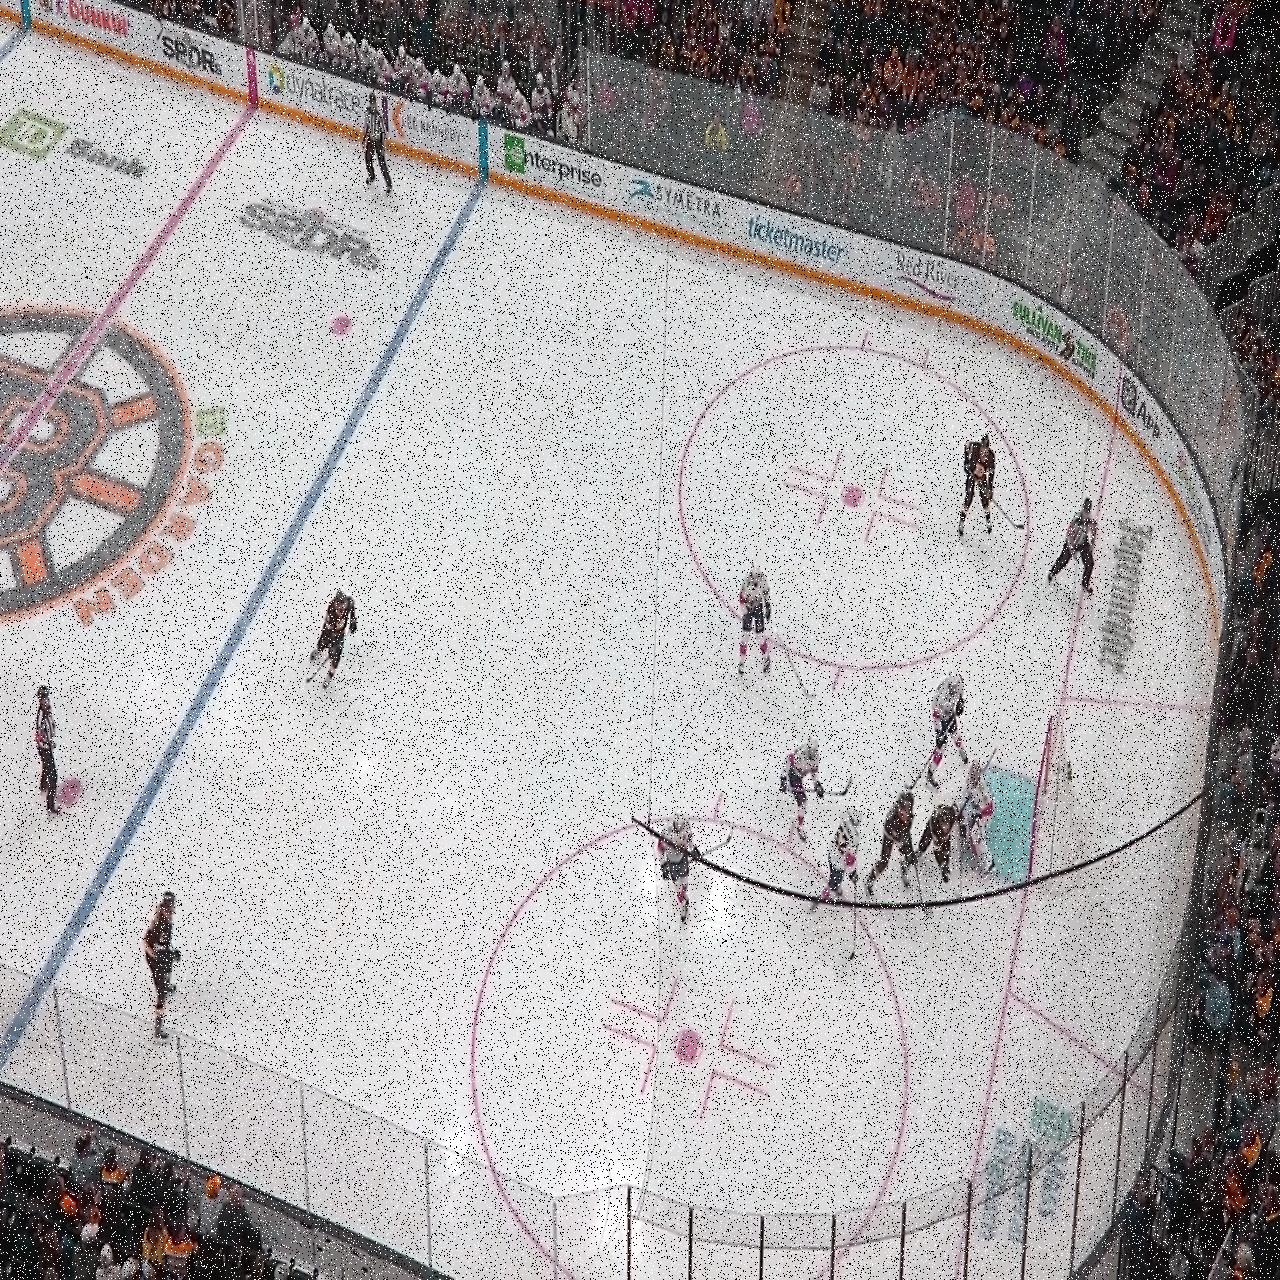Ad: (979, 1064, 1074, 1249), (0, 92, 148, 194), (243, 182, 382, 280), (1093, 500, 1150, 689), (1011, 286, 1100, 398), (748, 199, 854, 282), (506, 128, 608, 209), (368, 87, 459, 161), (628, 168, 726, 236), (267, 63, 363, 118), (1118, 356, 1165, 458), (157, 27, 231, 88), (897, 242, 964, 309), (1179, 436, 1213, 561), (56, 0, 133, 52)
